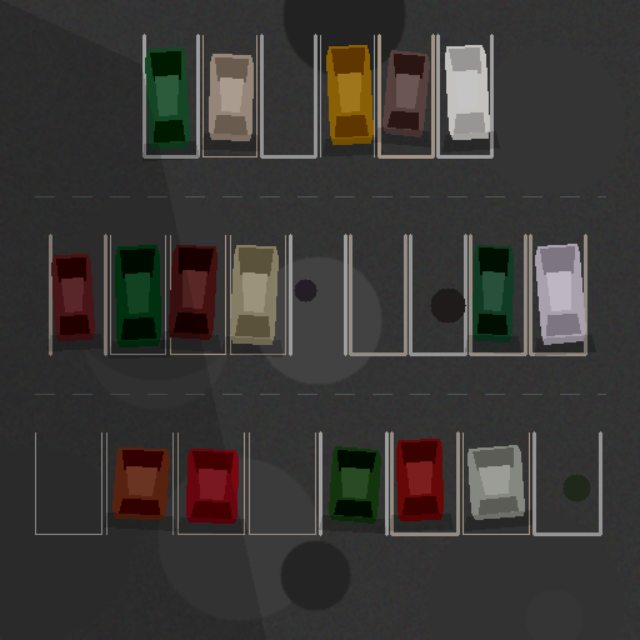space-empty: (35, 433, 101, 534), (249, 433, 315, 534), (534, 433, 600, 534), (290, 235, 345, 354), (350, 235, 405, 354), (410, 235, 465, 354), (261, 35, 315, 156)
space-occupied: (391, 433, 458, 534), (462, 433, 529, 534), (106, 433, 172, 534), (178, 433, 244, 534), (320, 433, 386, 534), (50, 235, 105, 354), (110, 235, 165, 354), (170, 235, 225, 354), (230, 235, 285, 354), (470, 235, 525, 354), (530, 235, 585, 354), (144, 35, 198, 156), (202, 35, 256, 156), (320, 35, 374, 156), (379, 35, 432, 156), (438, 35, 491, 156)
